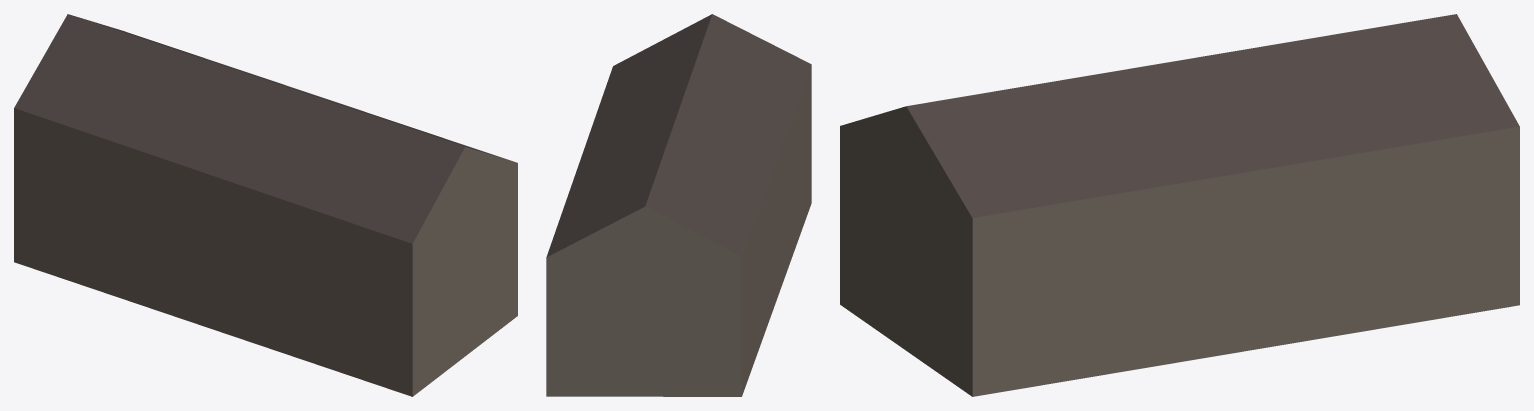
The picture shows the model from 3 angles, left to right: view 1: azimuth 30°, elevation 25°; view 2: azimuth 150°, elevation 25°; view 3: azimuth 270°, elevation 25°; orthographic projection. The views are drawn at different scales.
Parts seen in each view (by area): view 1: HP-w1512359794; view 2: HP-w1512359794; view 3: HP-w1512359794.
Part boxes in pixels (box(x1,y1,x2,y2)): HP-w1512359794: box(14, 14, 517, 396); HP-w1512359794: box(546, 14, 811, 396); HP-w1512359794: box(840, 14, 1519, 396).
Bounding box in the file's own units: 19.87 × 12.32 × 31.02.
